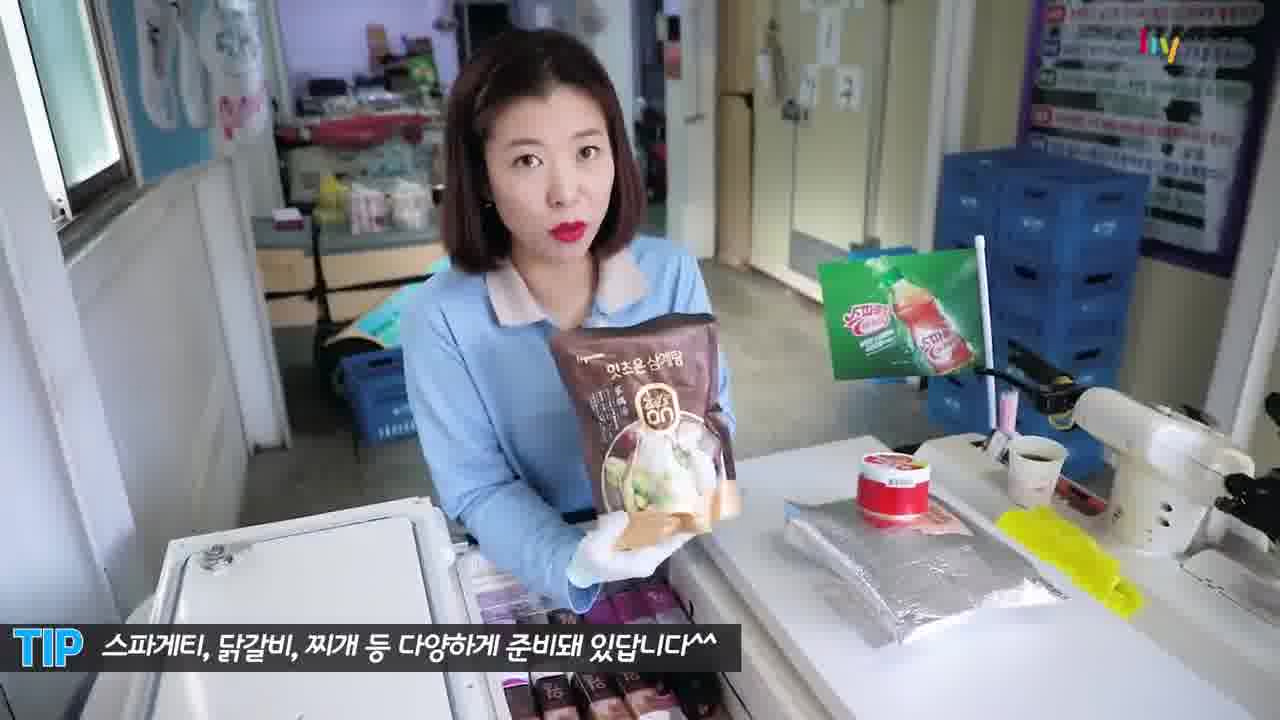Yakurut: (369, 17, 754, 616)
